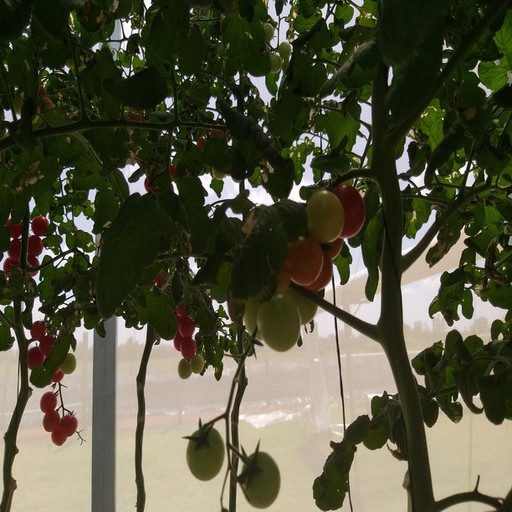green tomato bunch: (258, 21, 293, 77)
mixed tomato bunch: (242, 185, 372, 354), (143, 127, 238, 194), (10, 81, 56, 123)
red tomato bunch: (29, 320, 79, 447), (157, 277, 204, 377), (1, 214, 49, 278)
